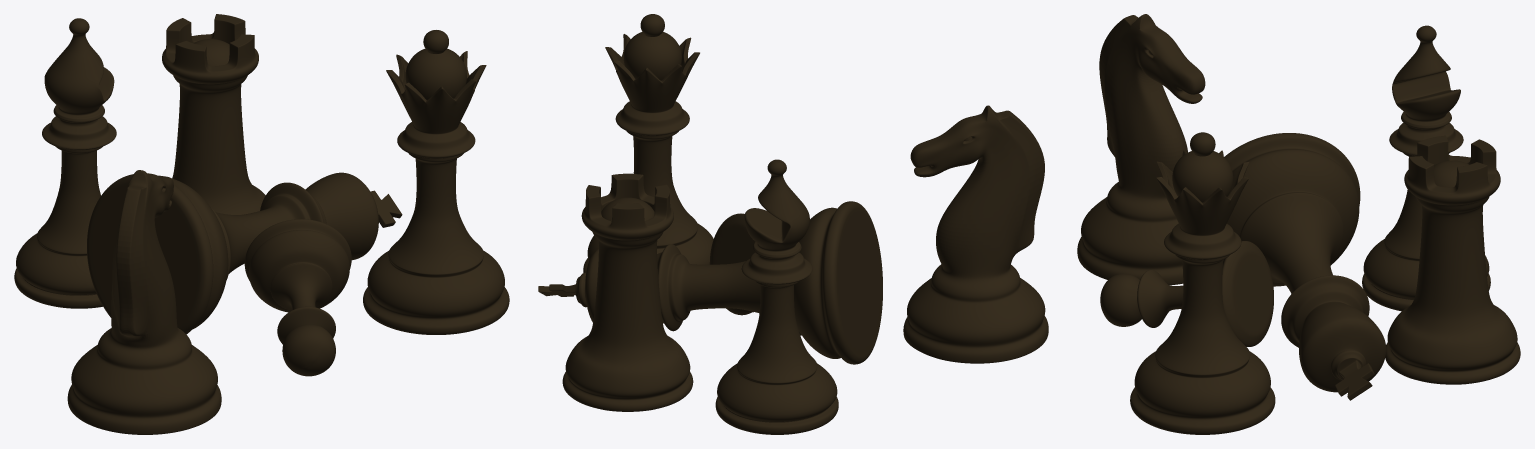
File: 10. Chess set.glb
The picture shows the model from 3 angles, left to right: view 1: azimuth 30°, elevation 25°; view 2: azimuth 150°, elevation 25°; view 3: azimuth 270°, elevation 25°; orthographic projection. The views are drawn at different scales.
Parts seen in each view (by area): view 1: Cylinder.023, knight.016, Cylinder.025, Cylinder.026, rook.001, Cylinder.024; view 2: knight.016, rook.001, Cylinder.025, Cylinder.026, Cylinder.023, Cylinder.024; view 3: Cylinder.025, Cylinder.023, rook.001, knight.016, Cylinder.026, Cylinder.024.
Part boxes in pixels (box(x1,y1,x2,y2)): Cylinder.023: box(363, 30, 509, 334); knight.016: box(67, 170, 221, 434); Cylinder.025: box(87, 172, 402, 334); Cylinder.026: box(14, 18, 116, 308); rook.001: box(162, 14, 265, 214); Cylinder.024: box(244, 219, 351, 376); knight.016: box(903, 105, 1048, 363); rook.001: box(562, 173, 693, 411); Cylinder.025: box(538, 201, 882, 364); Cylinder.026: box(715, 159, 838, 434); Cylinder.023: box(583, 14, 713, 272); Cylinder.024: box(709, 213, 755, 315); Cylinder.025: box(1224, 133, 1386, 400); Cylinder.023: box(1130, 132, 1275, 434); rook.001: box(1385, 135, 1520, 384); knight.016: box(1077, 14, 1205, 285); Cylinder.026: box(1362, 25, 1490, 311); Cylinder.024: box(1100, 241, 1273, 346).
Bounding box in the file's own units: 0.9569 × 0.5679 × 0.8306.
